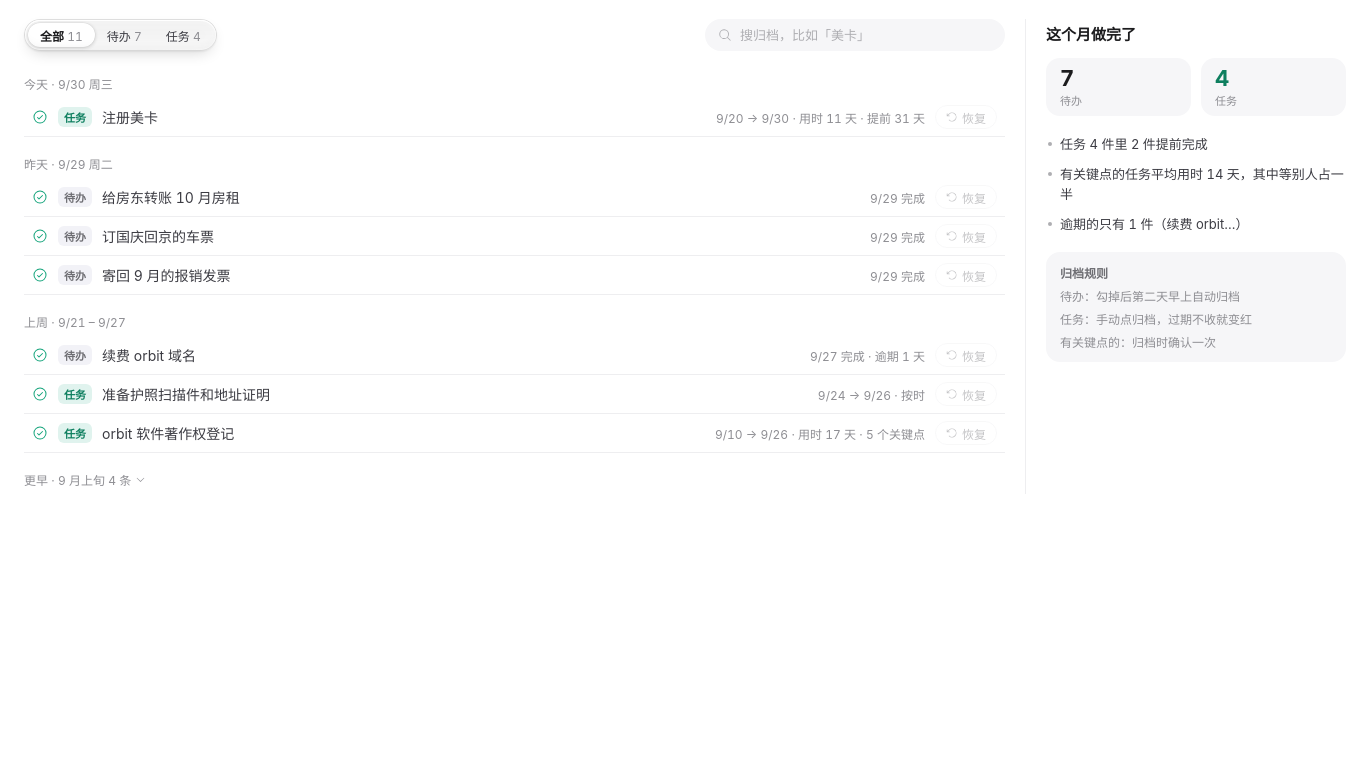
Test: ArchivePage (ui-spec §14) › expands a task row with key points into timeline + summary + actions
Click the button "任务 注册美卡 9/20 → 9/30 · 用时 11 天 · 提前 31 天" at (75, 117), box [24,98,925,136]
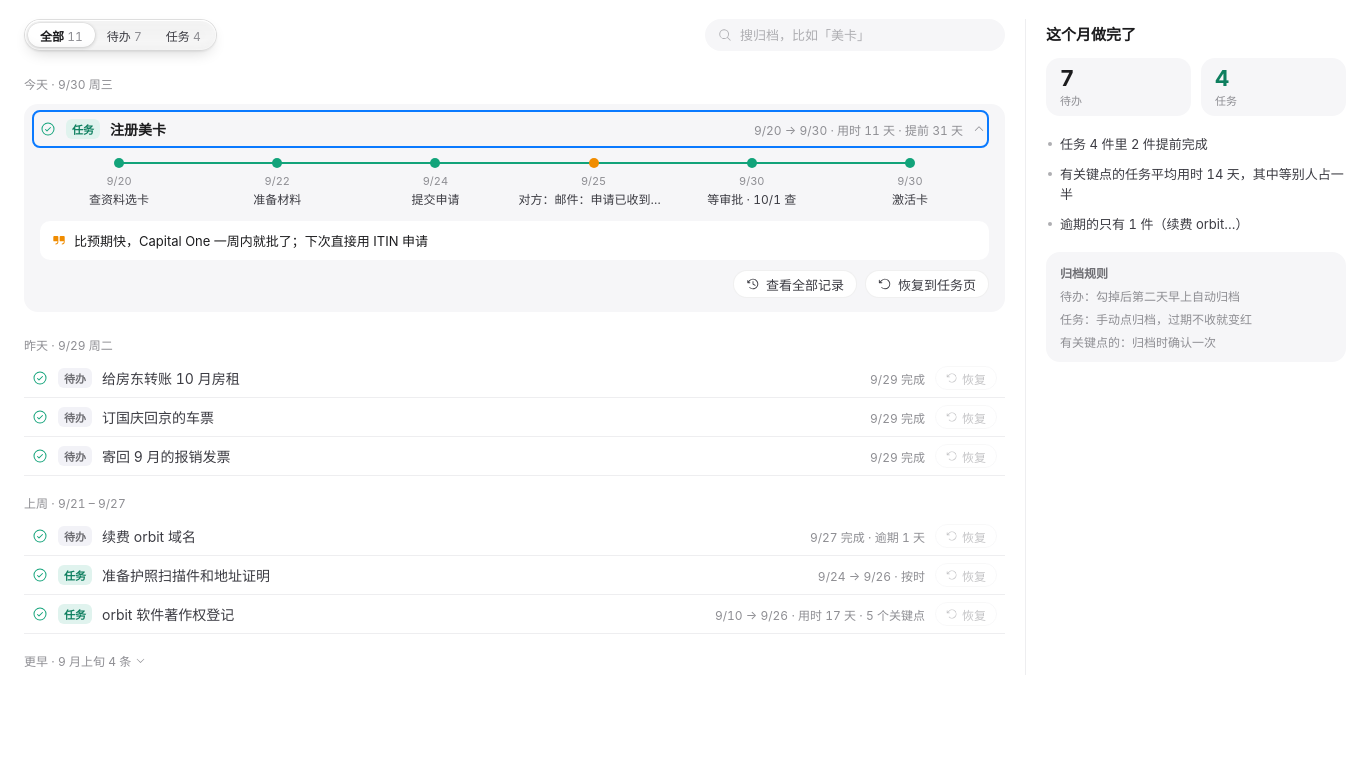
Result: the element that starts with "注册美卡" shows "9/25" at [581,174,606,188]
Result: the element that starts with "注册美卡" shows "比预期快" at [74,233,428,249]
Click the button "查看全部记录" at (795, 284), box [733,270,857,298]
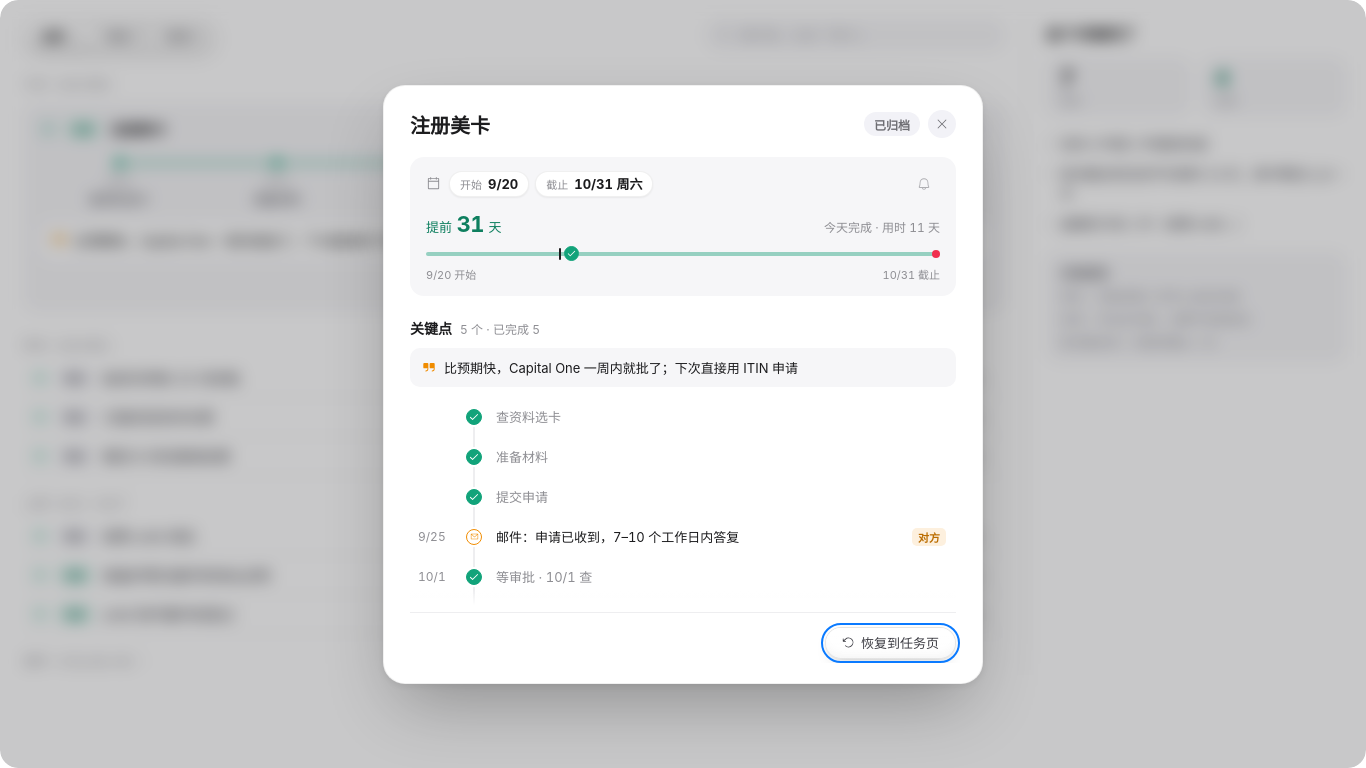
Result: the dialog shows "已归档" at [874,118,910,132]
Result: the dialog shows "恢复到任务页" at [825,626,956,658]
